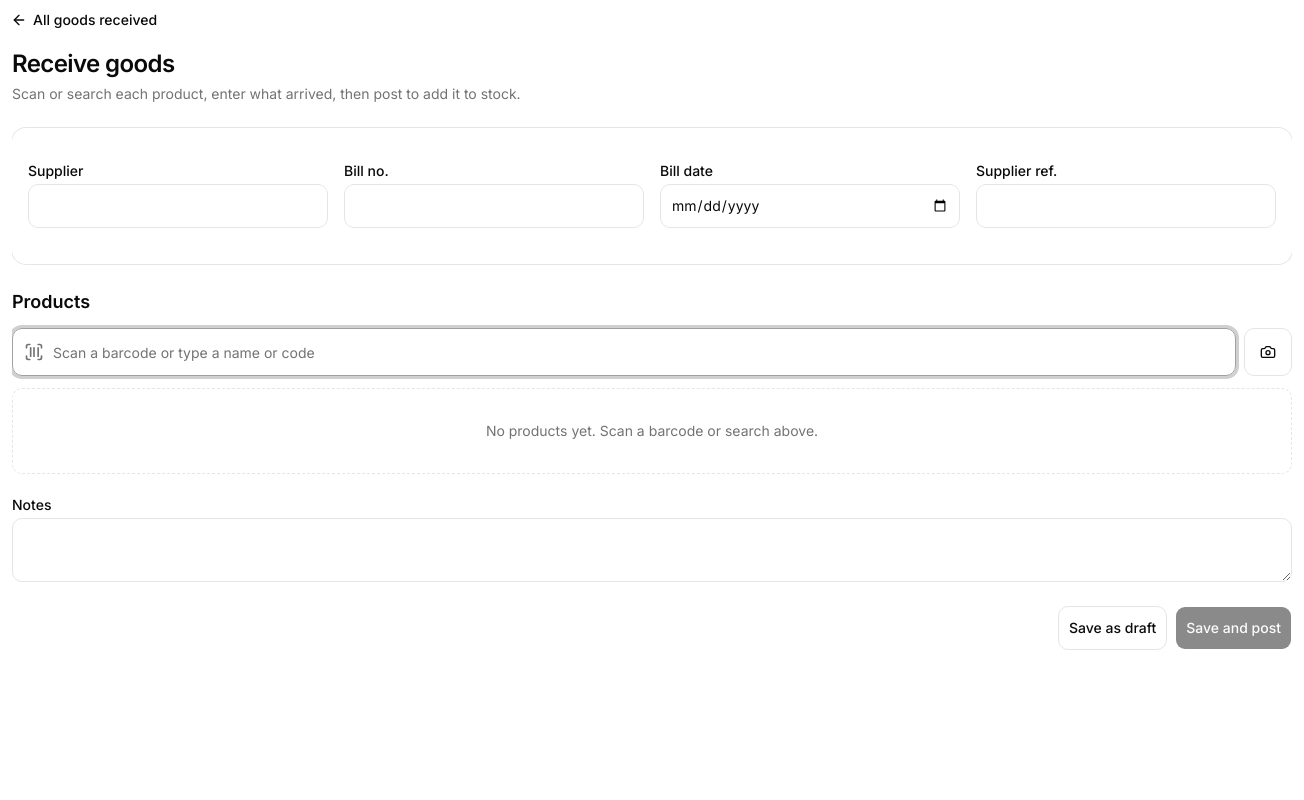
receiving goods on a laptop › lets product managers link an unknown barcode to a product
Type "999000111" into the field named "Scan or search a product". click: (624, 352)
box: [12,328,1236,376]
Then press Enter
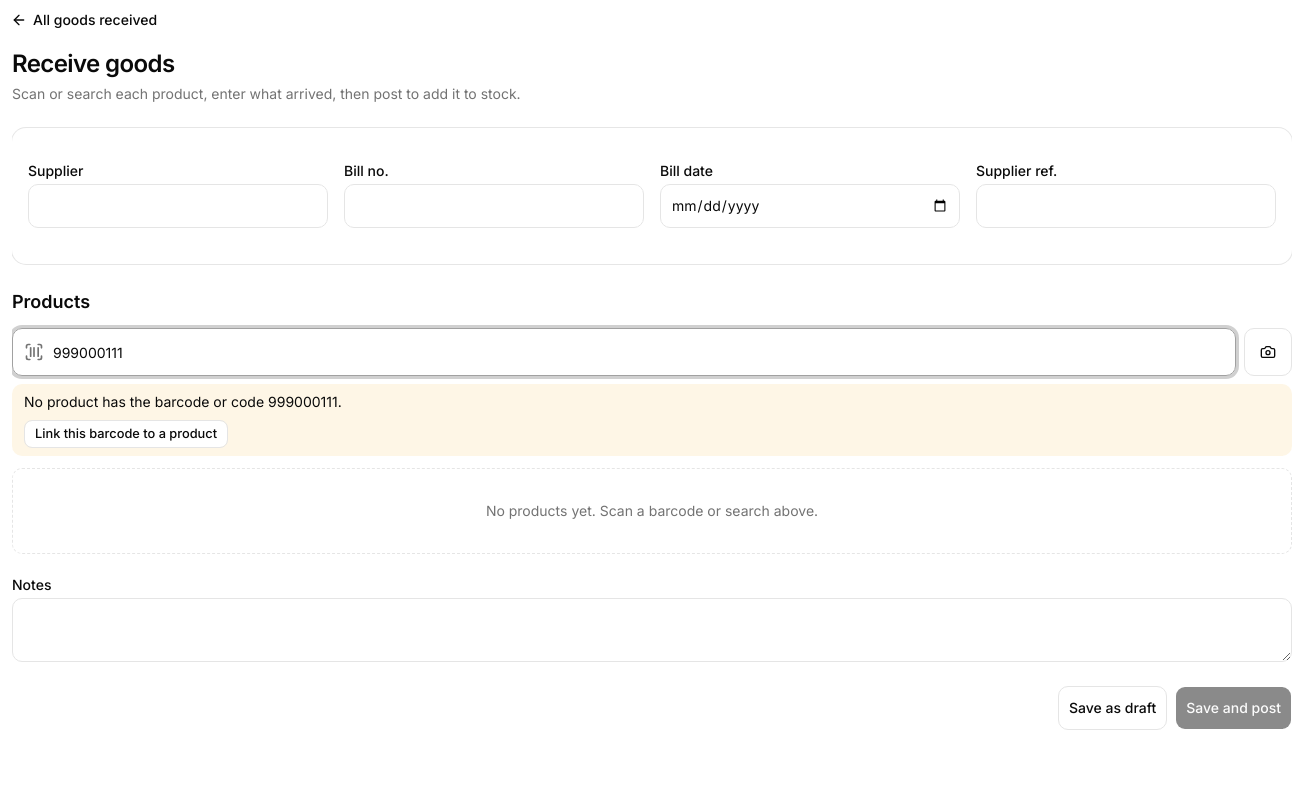
Check: the text "No product has the barcode or code 999000111." is shown, box [24,393,342,410]
Click the button "Link this barcode to a product". click: click(126, 434)
box: [24,420,228,448]
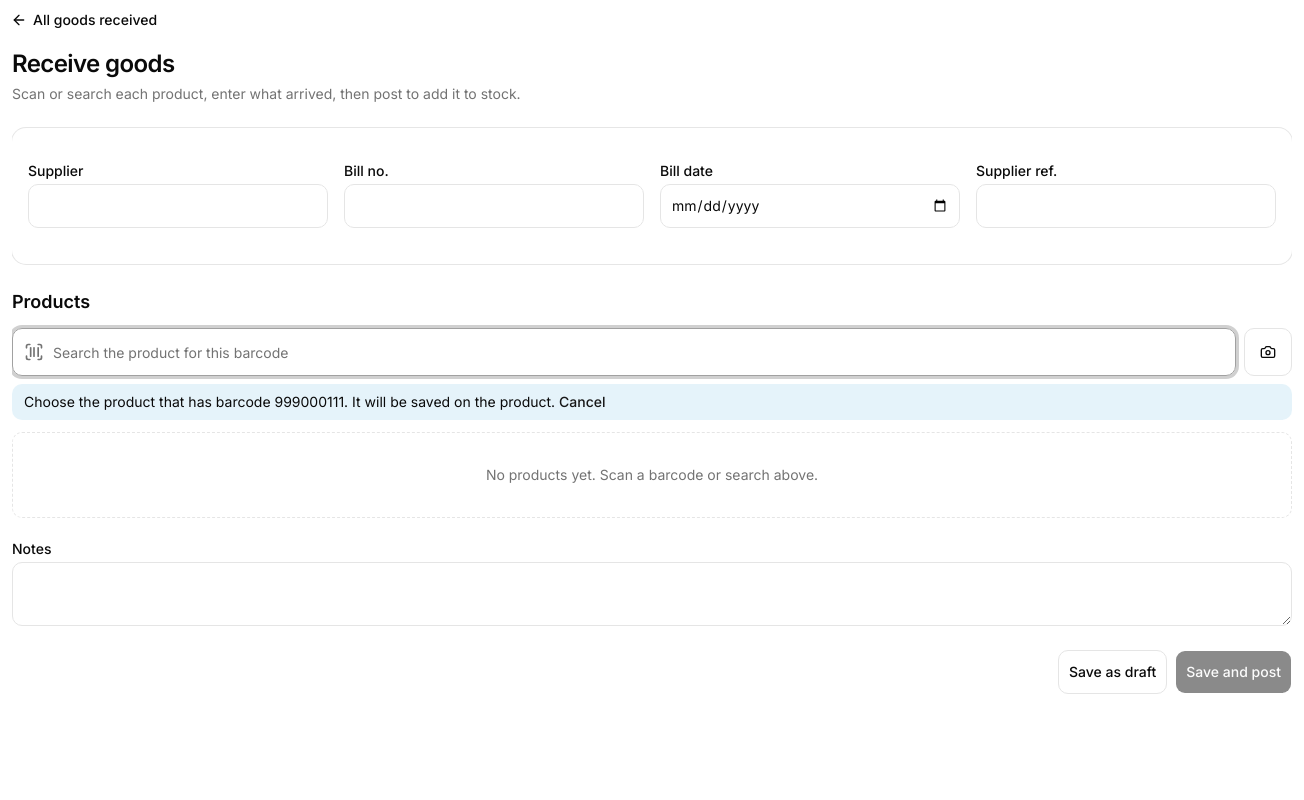
Type "parle" into the field named "Scan or search a product". click: (624, 352)
box: [12,328,1236,376]
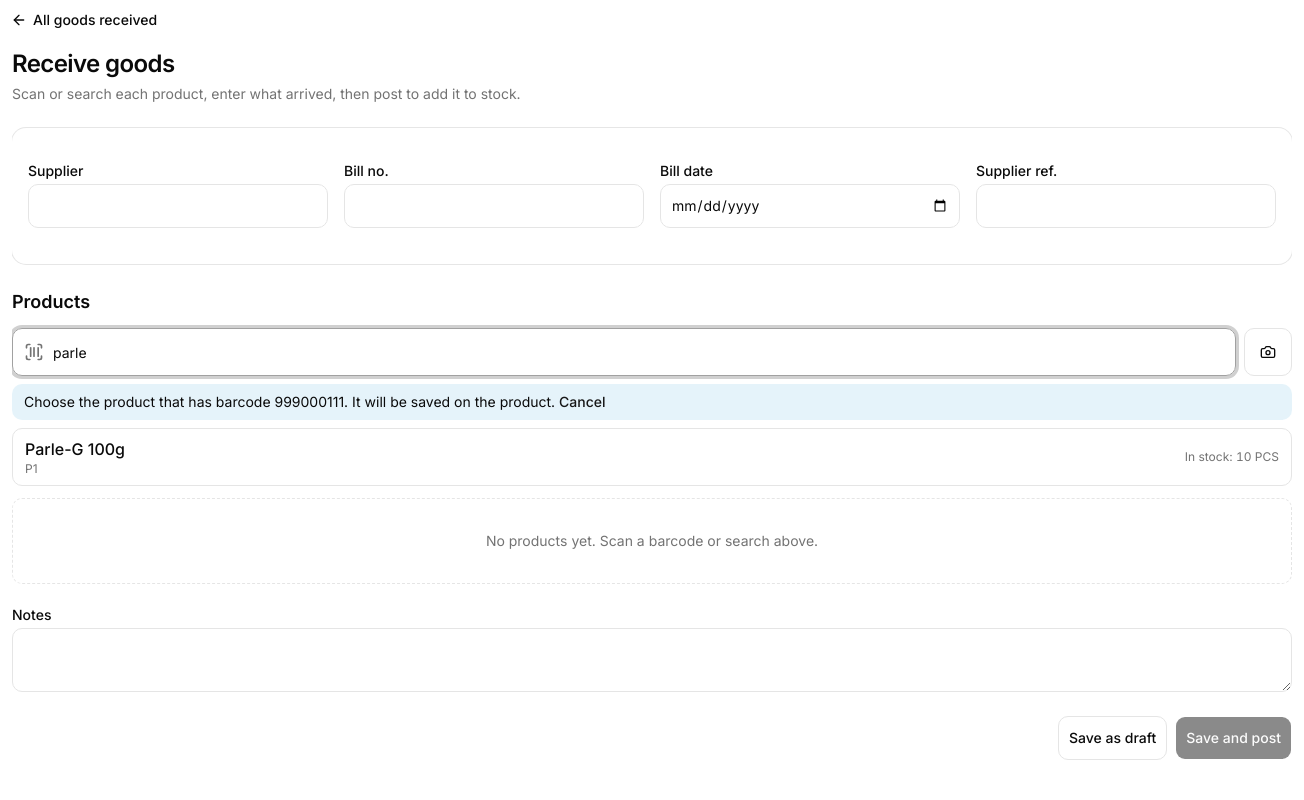
Click the button "Parle-G 100g P1 In stock: 10 PCS". click: click(75, 449)
box: [13,429,1291,485]
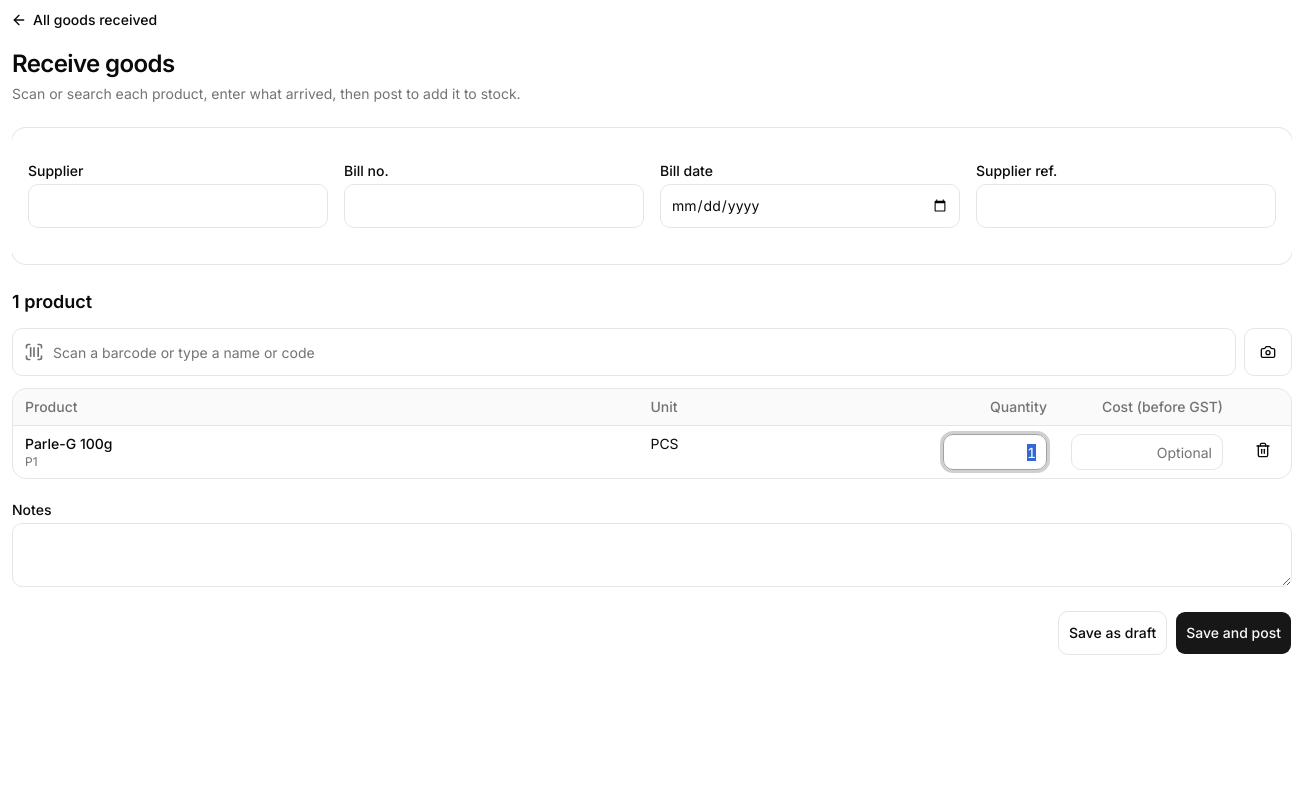
Check: the field named "Quantity of Parle-G 100g in PCS" is shown, box [943,434,1047,470]
